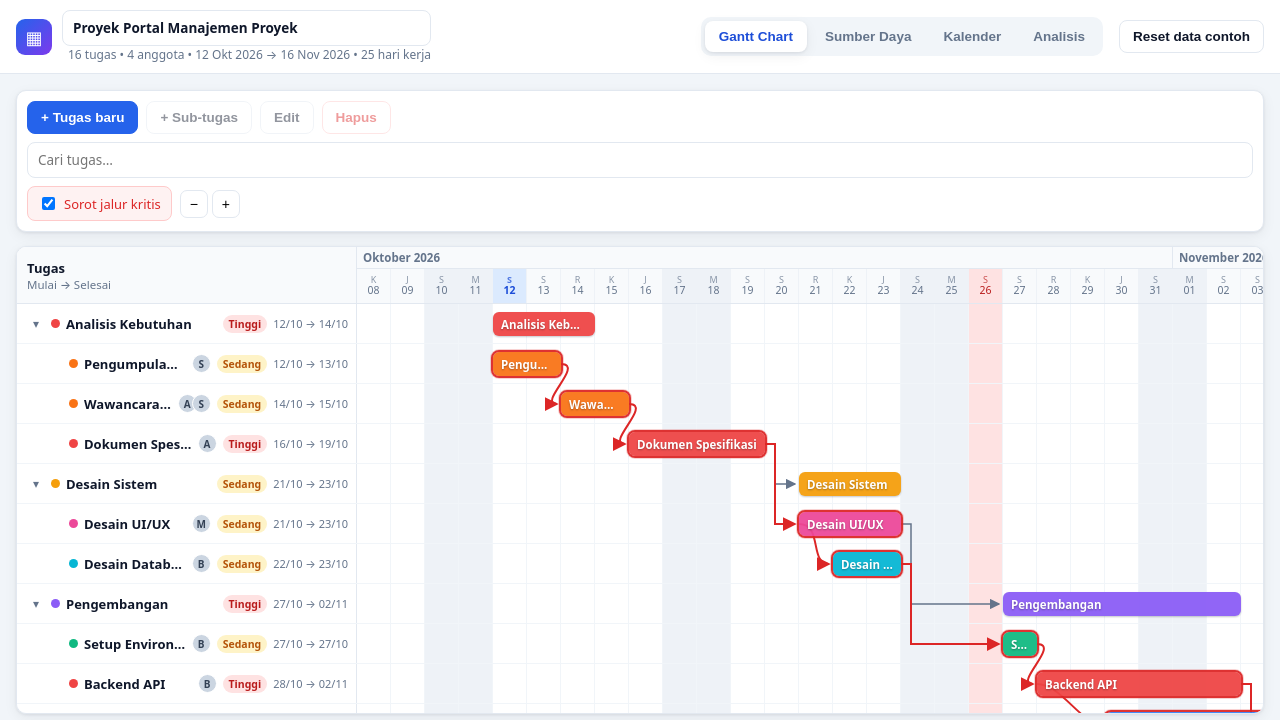
it: App (UI) › beralih ke tab Sumber Daya dan menampilkan anggota
Click the button "Sumber Daya".
click(868, 36)  # box [811, 21, 925, 52]
(page scrolled)
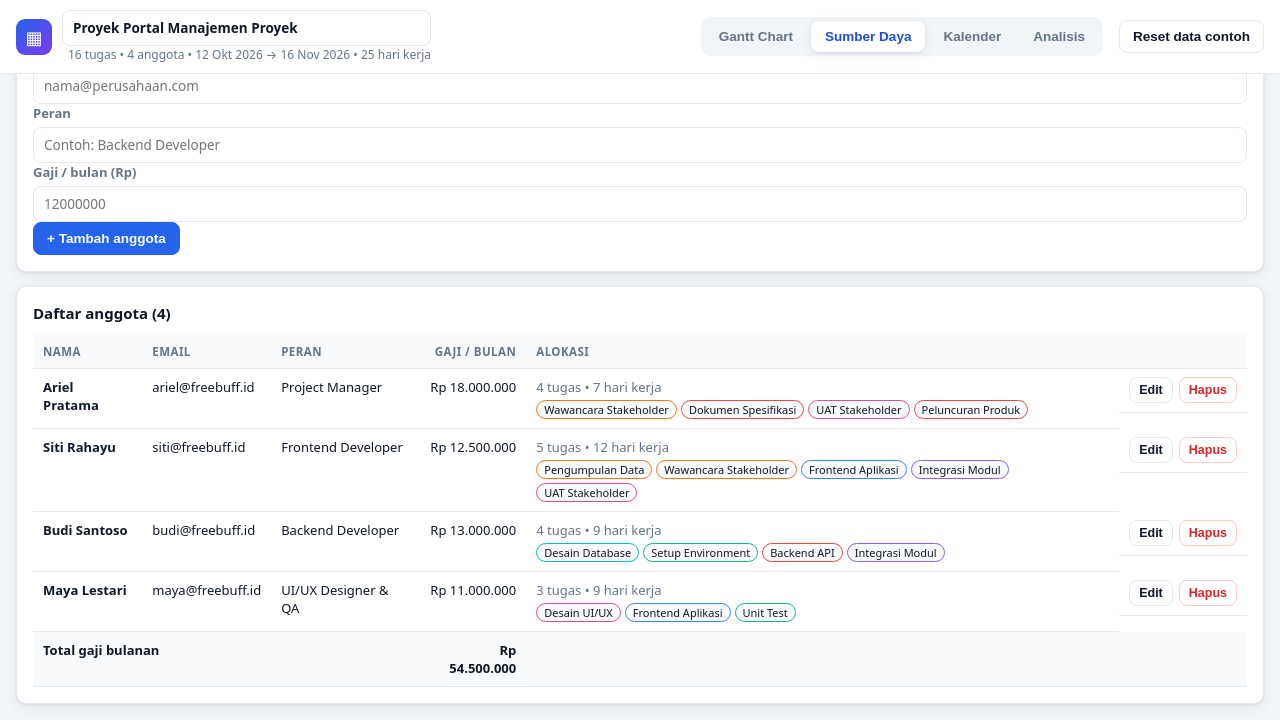
Expected: the text "Ariel Pratama" is shown, [43, 378, 99, 414]
Expected: the text "Total gaji bulanan" is shown, [33, 632, 419, 686]
